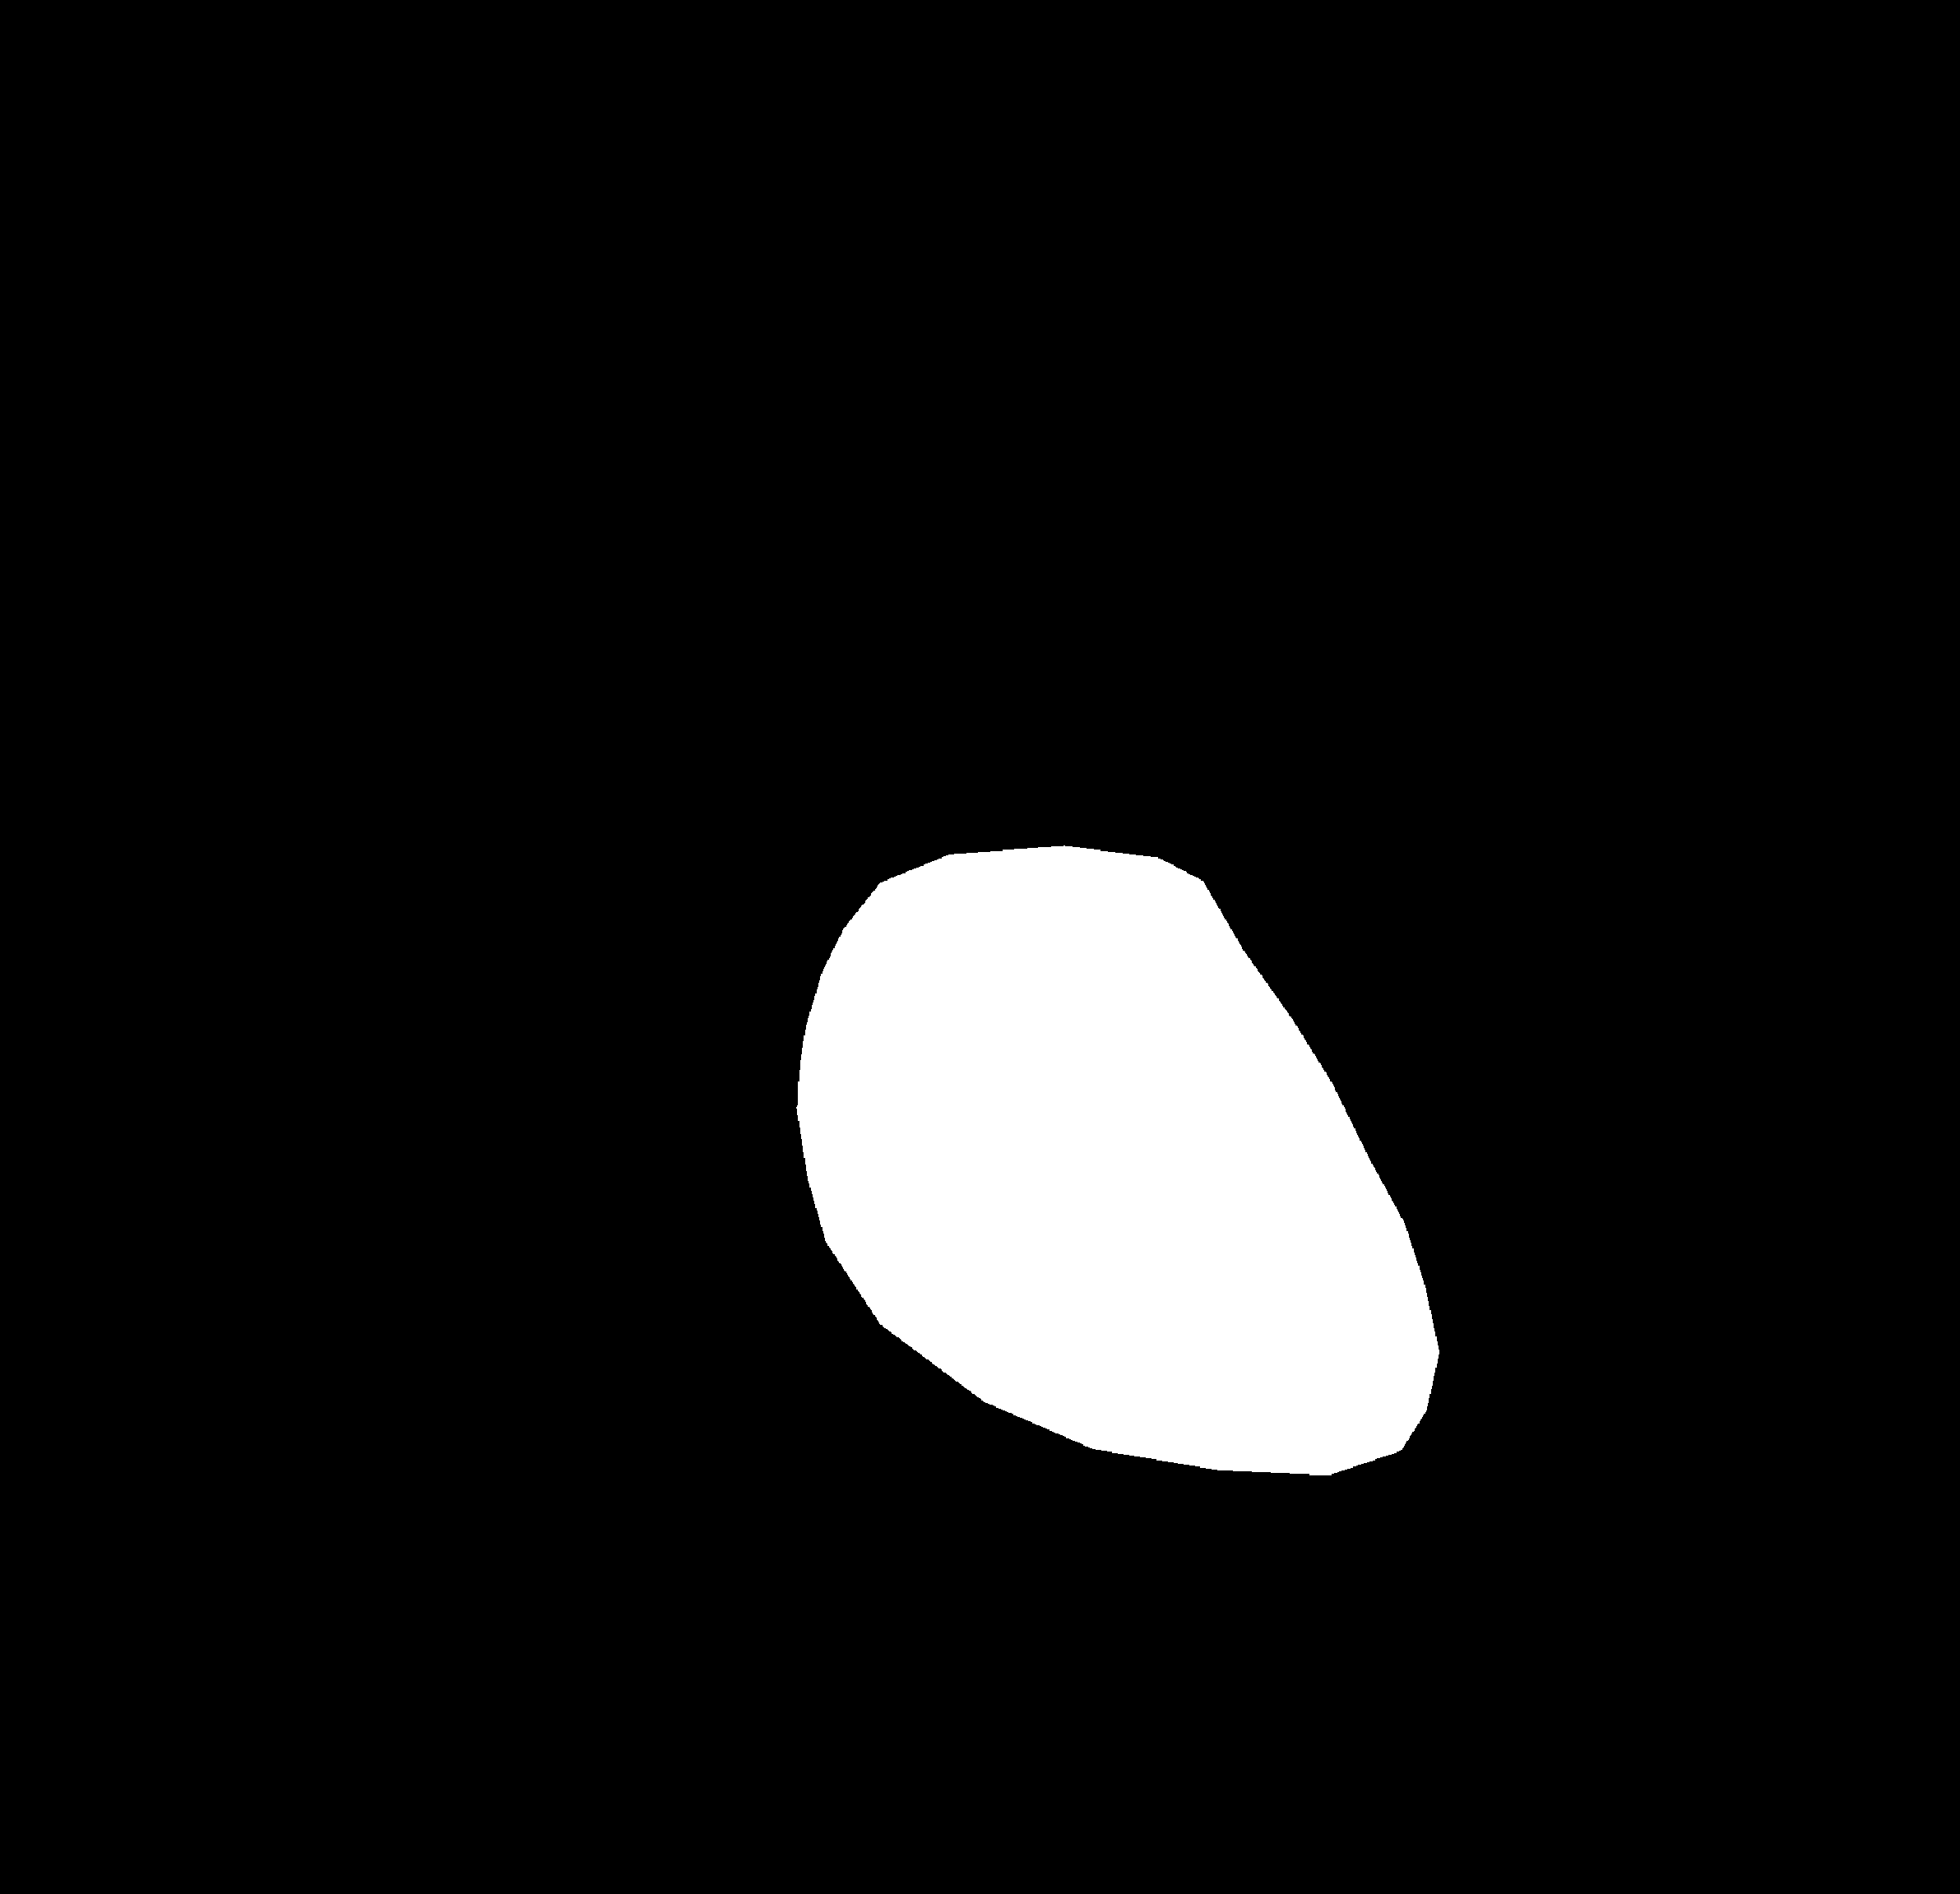heart: (794, 940, 1440, 1444)
left_lung: (269, 180, 854, 1617)
right_lung: (1013, 147, 1724, 1637)
